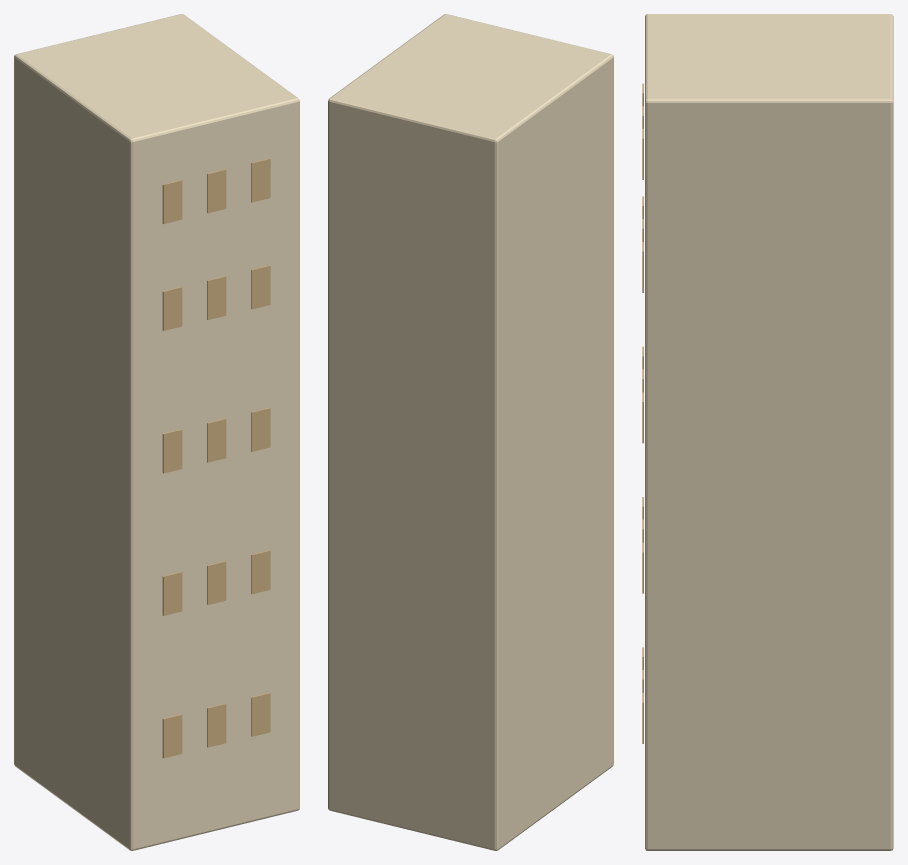
The model's file is tpe5_far_tower_0.glb.
3 views of the same model, side by side, from view 1: azimuth 30°, elevation 25°; view 2: azimuth 150°, elevation 25°; view 3: azimuth 270°, elevation 25° (orthographic). The views are drawn at different scales.
Parts seen in each view (by area): view 1: tpe5_far_tower_0__tpe5-street-ivory, tpe5_far_tower_0__tpe5-street-brass; view 2: tpe5_far_tower_0__tpe5-street-ivory; view 3: tpe5_far_tower_0__tpe5-street-ivory, tpe5_far_tower_0__tpe5-street-brass.
Boxes of the visible parts, x1,y1,x2,y2 form: tpe5_far_tower_0__tpe5-street-ivory: [14, 14, 299, 850]; tpe5_far_tower_0__tpe5-street-brass: [162, 158, 270, 758]; tpe5_far_tower_0__tpe5-street-ivory: [328, 14, 613, 850]; tpe5_far_tower_0__tpe5-street-ivory: [645, 14, 893, 850]; tpe5_far_tower_0__tpe5-street-brass: [642, 83, 643, 743].
Bounding box in the file's own units: 5 × 20 × 6.06.
